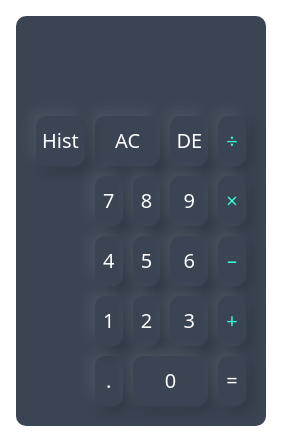
Test: Calculator Component Tests › TC01 - Addition Operation
Step 1. Click the button "2" → (146, 321), box [133,296,160,346]
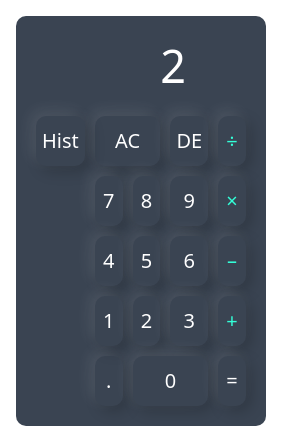
Step 2. Click the button "+" → (232, 321), box [218,296,246,346]
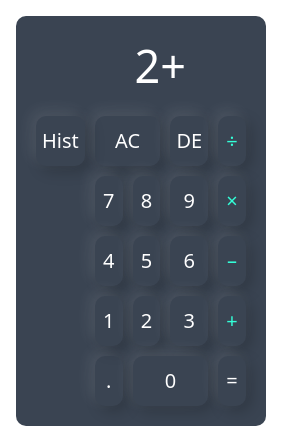
Step 3. Click the button "3" → (189, 321), box [170,296,208,346]
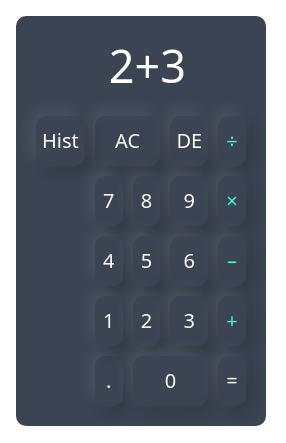
Step 4. Click the button "=" → (232, 381), box [218,356,246,406]
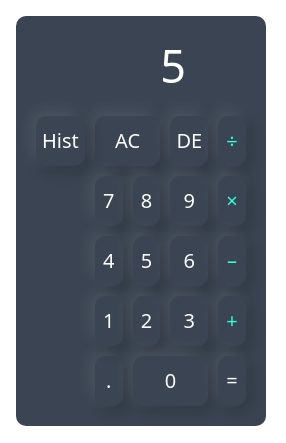
Check: the field with test id "calculator-display" holds "5", box [36,36,206,96]
